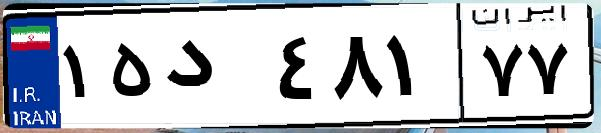1: (385, 28, 445, 110), (57, 26, 110, 100)
4: (270, 28, 330, 110)
5: (110, 28, 158, 98)
7: (475, 38, 525, 113), (525, 38, 570, 115)
8: (330, 28, 385, 110)
د: (158, 20, 270, 120)
